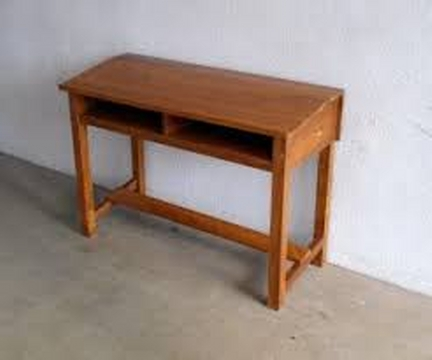meja: (58, 52, 345, 313)
